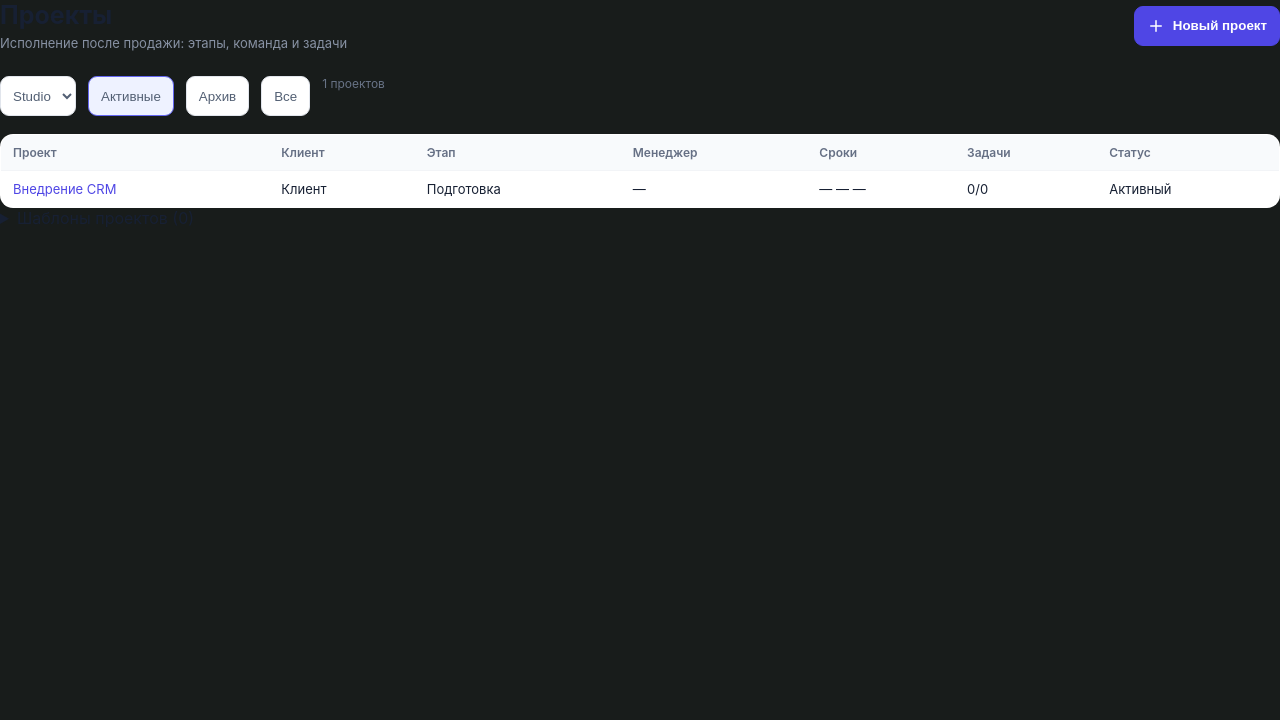
projects › keeps an API error visible when creating a project fails
Expected: the button "Внедрение CRM" is shown, [13,181,116,197]
Click the button "Новый проект": x=1207, y=26 [1134,6,1279,46]
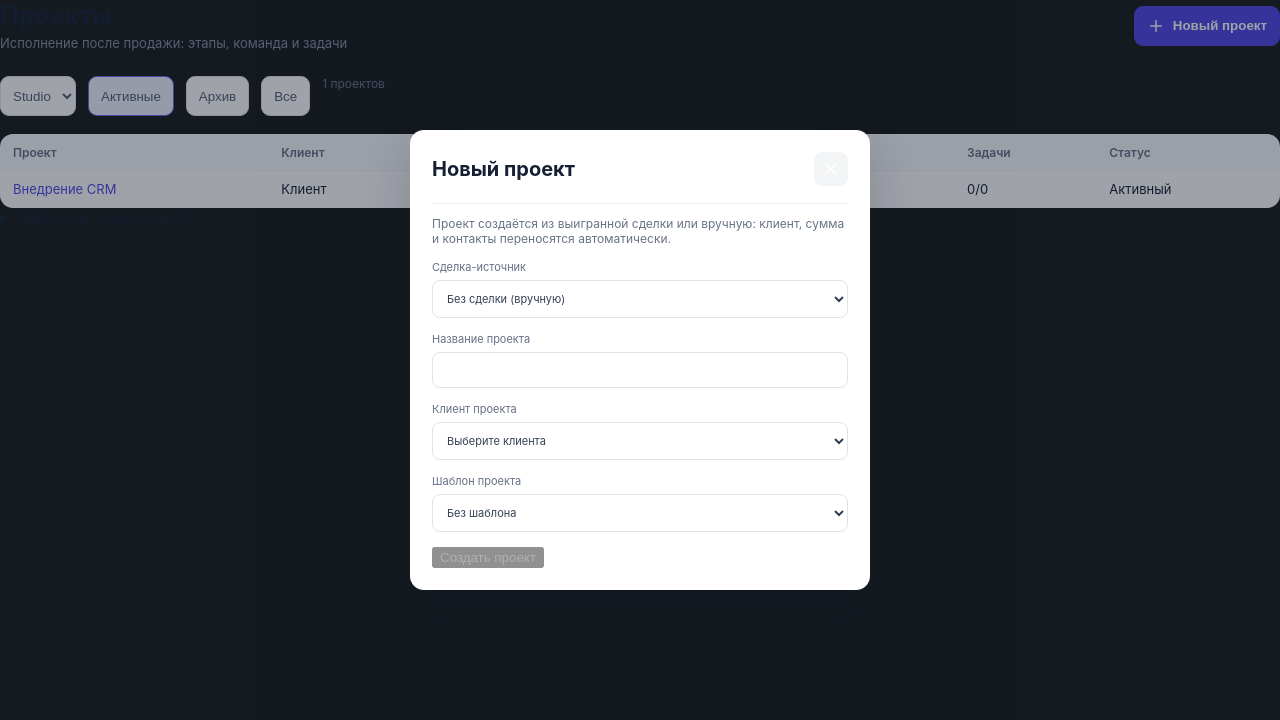
In the field labelled "Название проекта": x=640, y=370 [432,352,848,388], type "Проблемный"
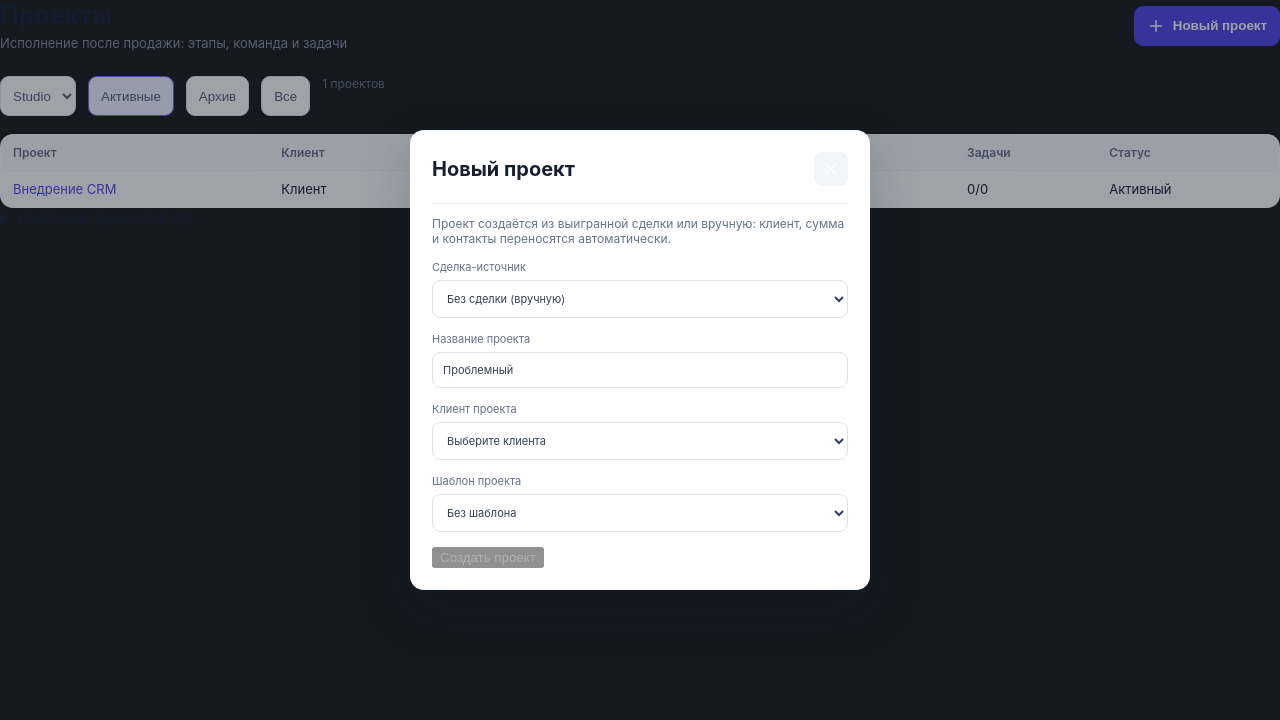
Select "Клиент" in the dropdown labelled "Клиент проекта": x=640, y=441 [432,422,848,460]
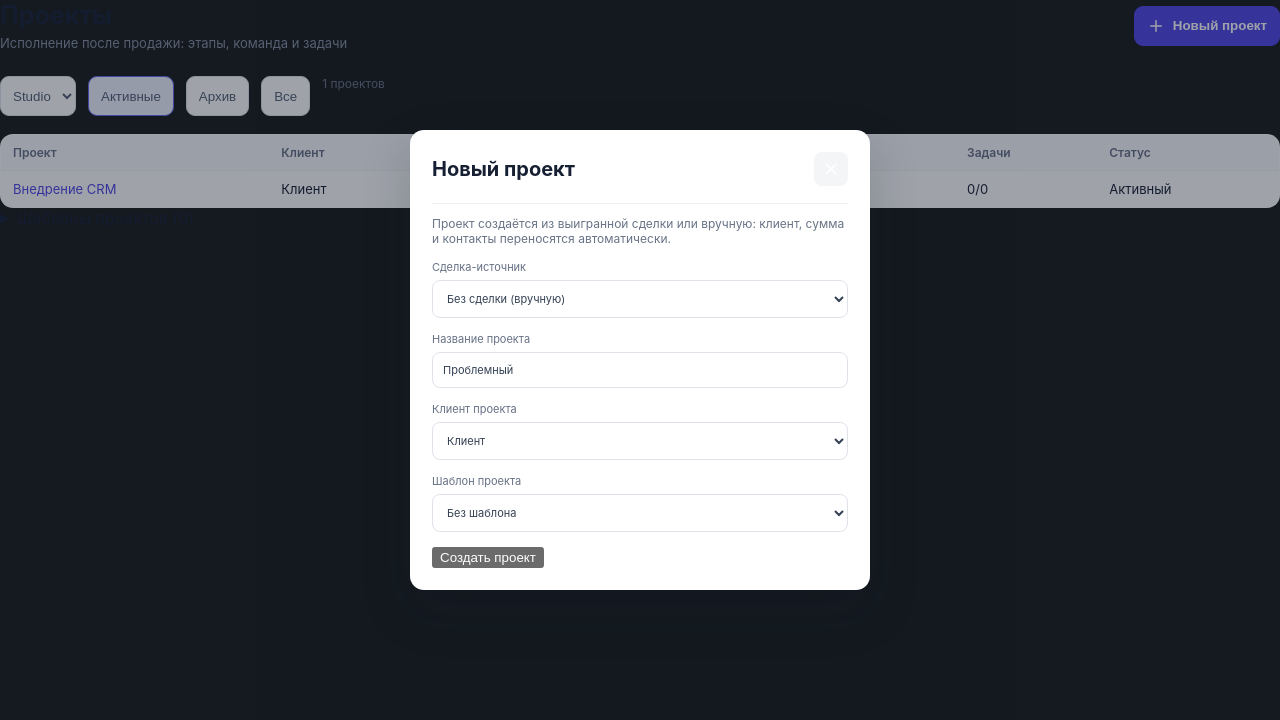
Click the button "Создать проект": x=488, y=558 [432,547,544,568]
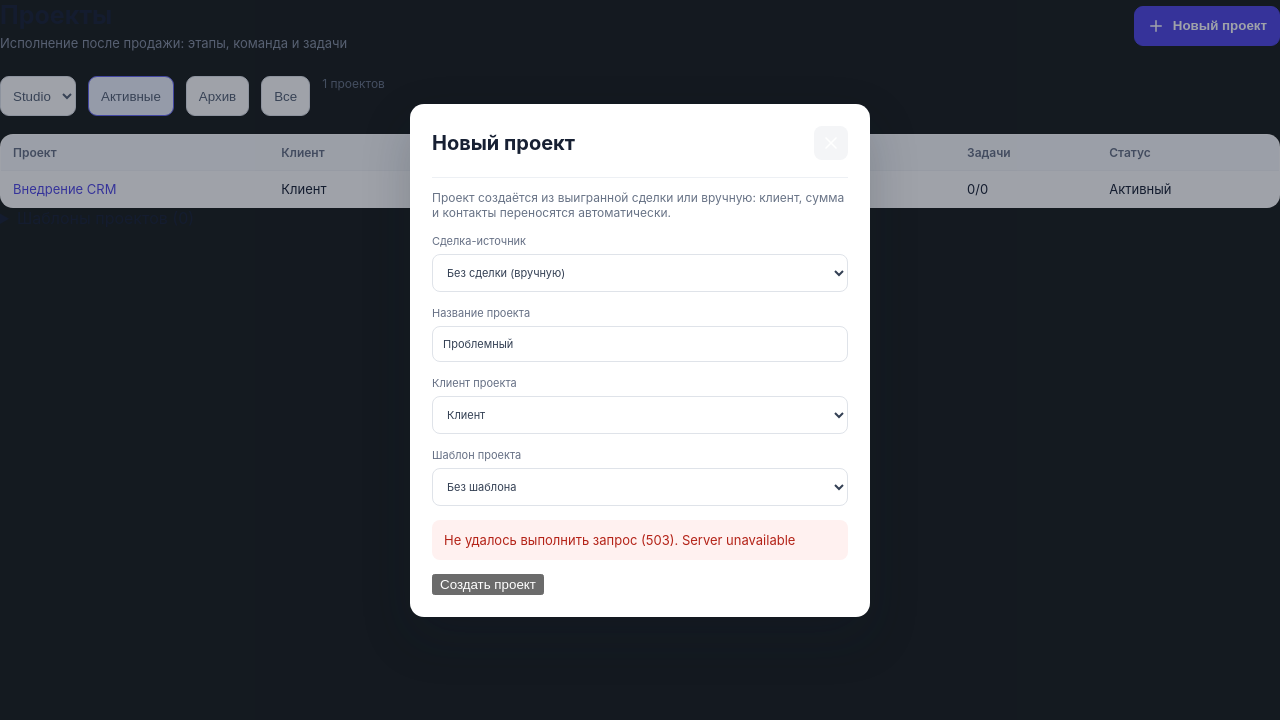
Result: the message "Не удалось выполнить запрос (503). Server unavailable" is shown at [432,520,848,560]
